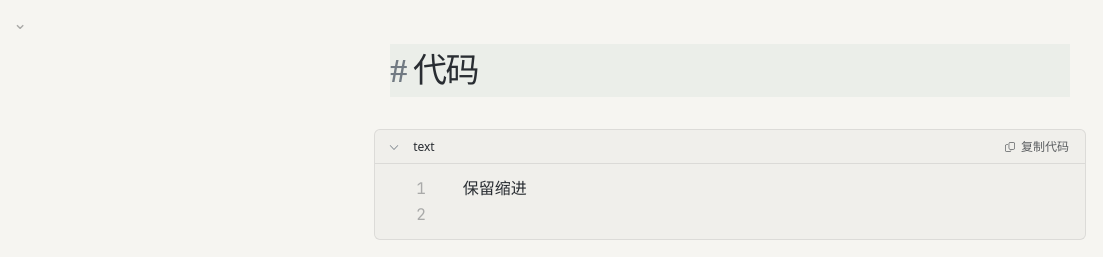
Test: mounted CodeMirror editor › copies exact code whitespace while keeping the Fluent copy affordance intact
Step 1. Click the button with class "code-copy" → click(1036, 146), box [999,136,1073,158]
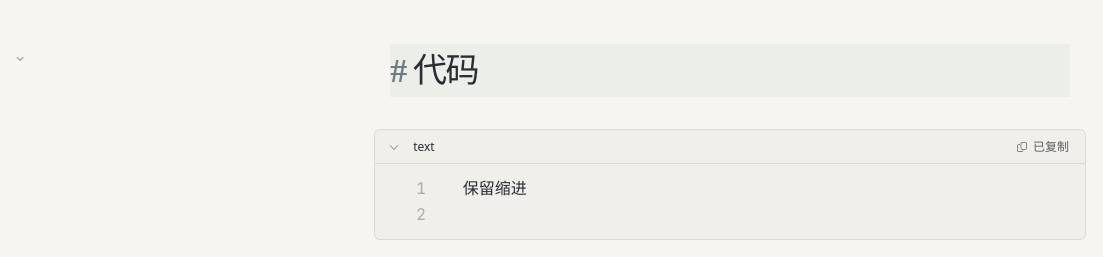
Check: the 2nd icon is shown, box [1015,140,1029,154]
Check: the button with class "code-copy" reads "已复制", box [1011,136,1073,158]
